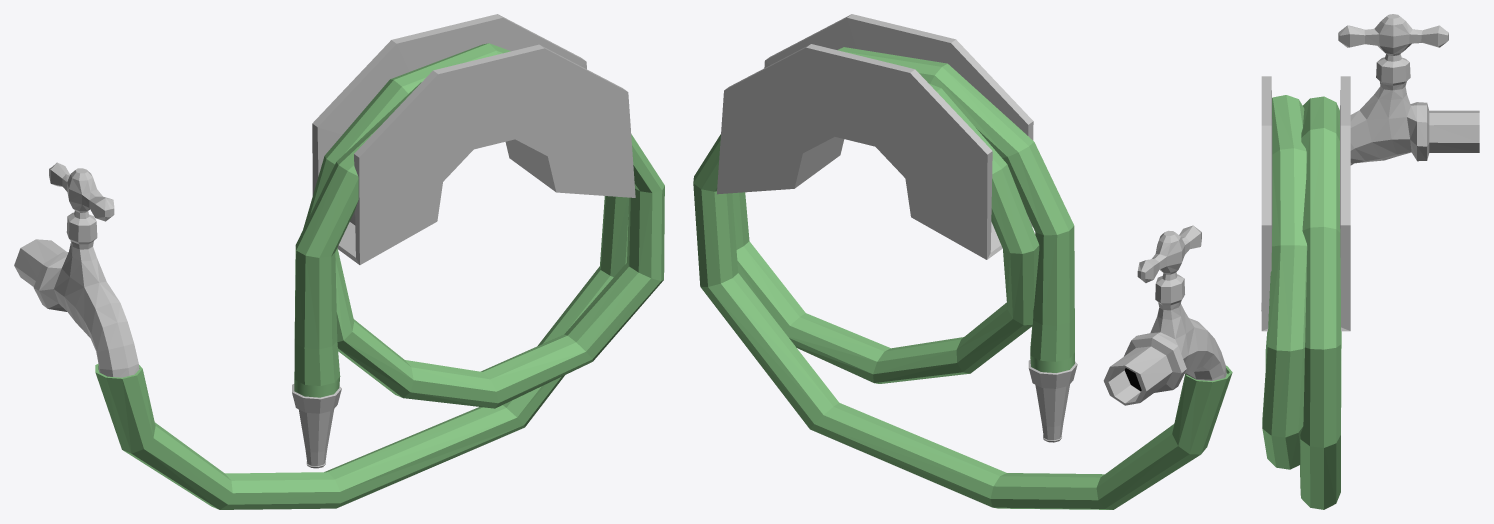
File: Hose.FBX
3 renders of one model, left to right at view 1: azimuth 30°, elevation 25°; view 2: azimuth 150°, elevation 25°; view 3: azimuth 270°, elevation 25°, orthographic. The views are drawn at different scales.
Visible parts, largest first — view 1: Cylinder002, Cylinder003, Hose001; view 2: Cylinder002, Cylinder003, Hose001; view 3: Cylinder002, Hose001, Cylinder003.
Boxes of the visible parts, box(x1,y1,x2,y2) form: Cylinder002: box(95, 43, 664, 509); Cylinder003: box(312, 14, 635, 264); Hose001: box(14, 162, 139, 377); Cylinder002: box(693, 47, 1232, 509); Cylinder003: box(717, 14, 1033, 259); Hose001: box(1103, 225, 1226, 405); Cylinder002: box(1261, 95, 1341, 509); Hose001: box(1338, 14, 1479, 165); Cylinder003: box(1261, 76, 1350, 331).
Bounding box in the file's own units: 578 × 435 × 208.
